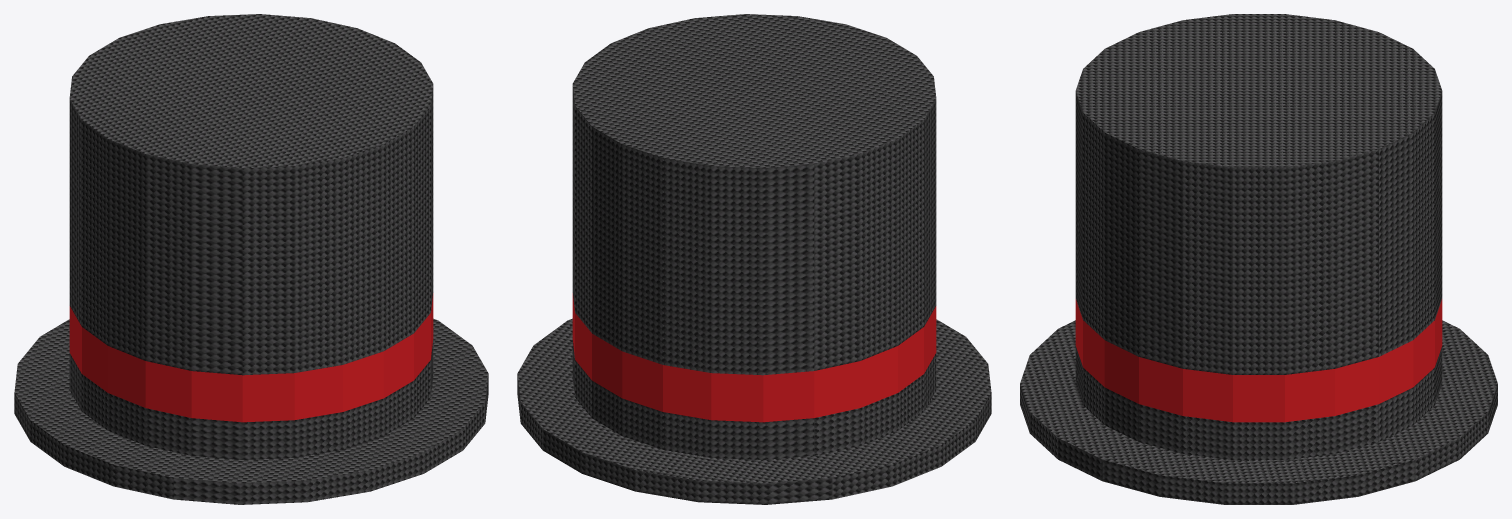
File: topHat.glb
3 views of the same model, side by side, from view 1: azimuth 30°, elevation 25°; view 2: azimuth 150°, elevation 25°; view 3: azimuth 270°, elevation 25° (orthographic).
Parts seen in each view (by area): view 1: topHat; view 2: topHat; view 3: topHat.
Boxes of the visible parts, bbox=[...] form: topHat: bbox=[14, 14, 488, 504]; topHat: bbox=[517, 14, 991, 504]; topHat: bbox=[1020, 14, 1497, 504].
Size of the model in its own units: 1.66 by 1.22 by 1.68.
2 materials, 2 textured.
